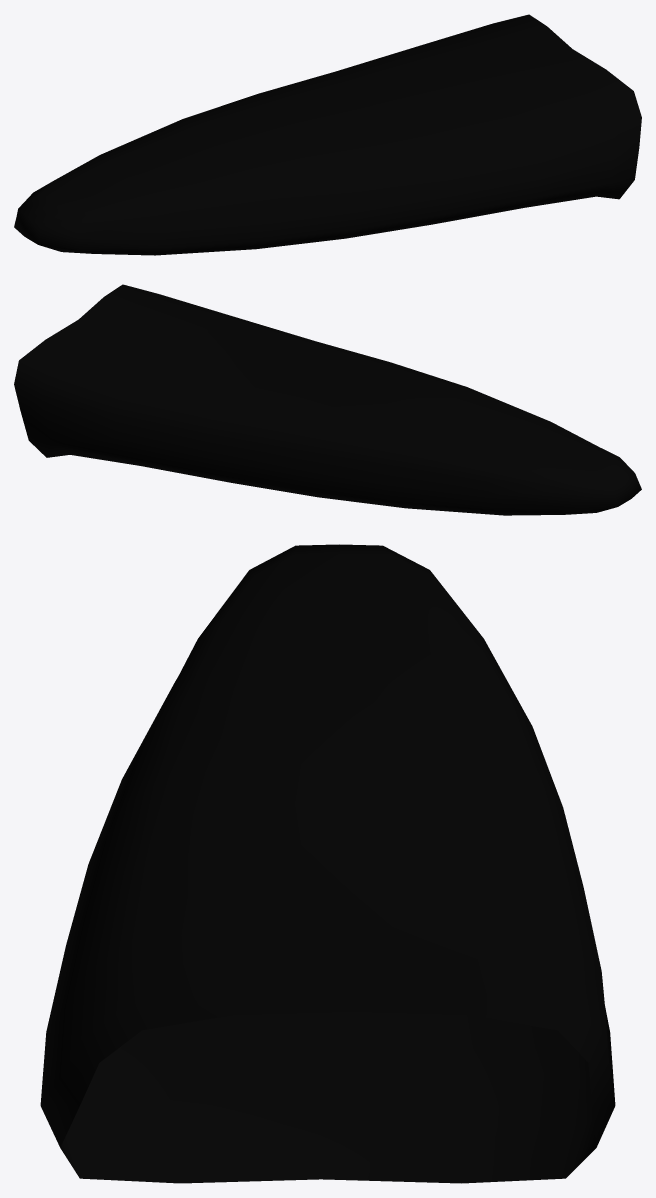
File: alaizq.obj
The picture shows the model from 3 angles, top to bottom: view 1: azimuth 30°, elevation 25°; view 2: azimuth 150°, elevation 25°; view 3: azimuth 270°, elevation 25°; orthographic projection. The views are drawn at different scales.
Parts seen in each view (by area): view 1: Linux_Penguin__Torso_; view 2: Linux_Penguin__Torso_; view 3: Linux_Penguin__Torso_.
Boxes of the visible parts, x1,y1,x2,y2 form: Linux_Penguin__Torso_: (14, 14, 641, 255); Linux_Penguin__Torso_: (14, 284, 641, 515); Linux_Penguin__Torso_: (40, 544, 615, 1183).
Bounding box in the file's own units: 14.3 × 2.5 × 6.39.
Materials: 1 (1 with a texture image).
